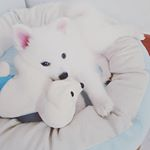puppy: (9, 19, 79, 80)
